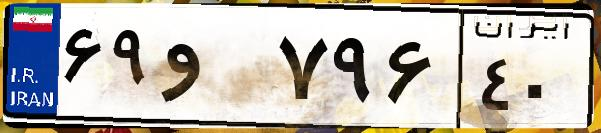0: (525, 38, 570, 115)
4: (475, 38, 525, 113)
6: (385, 28, 445, 110), (57, 26, 110, 100)
7: (270, 28, 330, 110)
9: (330, 28, 385, 110), (110, 28, 158, 98)
و: (158, 20, 270, 120)
